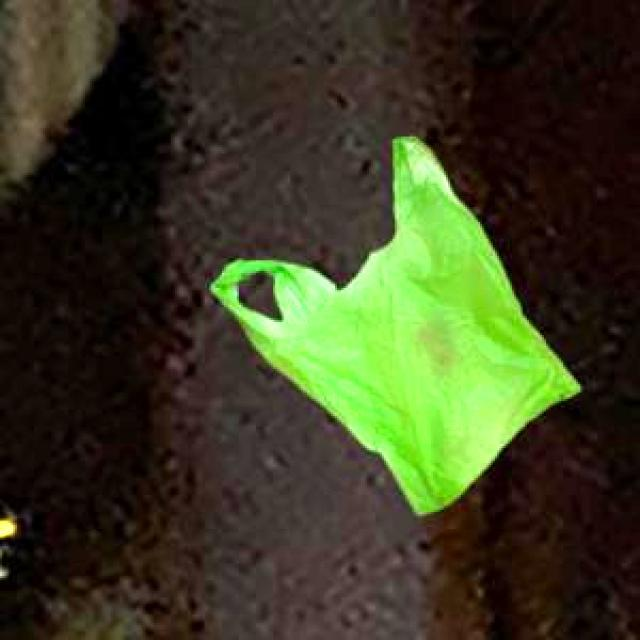Plastic_Bag: (208, 133, 577, 511)
